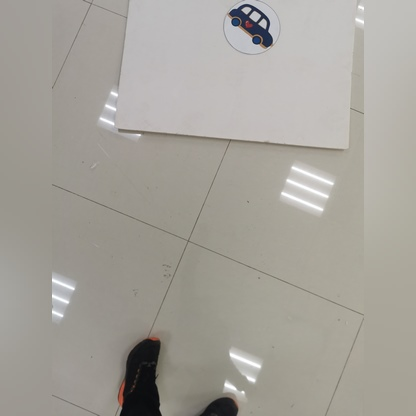car: (223, 0, 284, 45)
